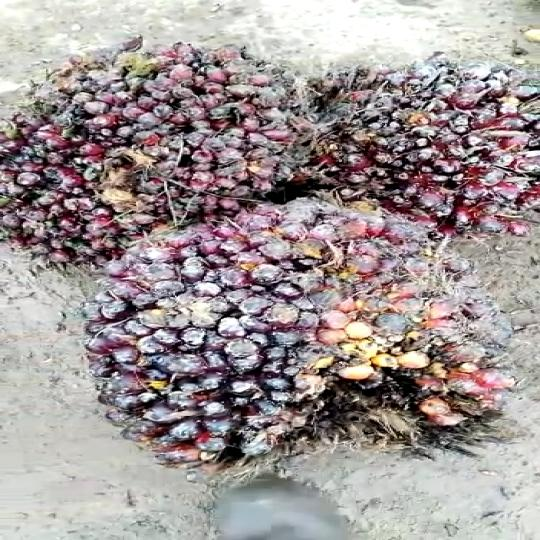kurang masak: (80, 205, 526, 475), (1, 34, 346, 264), (303, 51, 540, 228)
